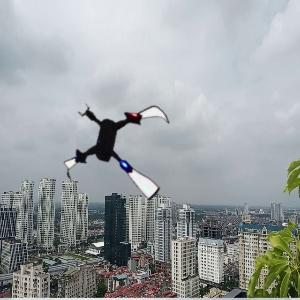drone: (62, 91, 183, 212)
